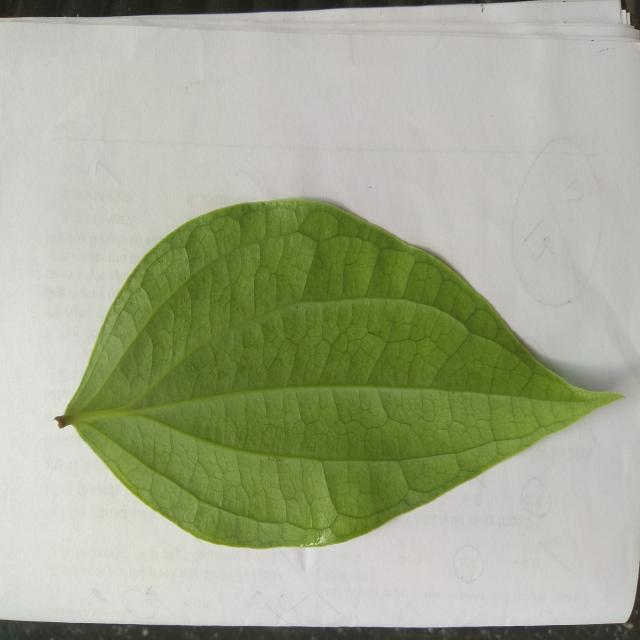pepper: (56, 200, 618, 548)
